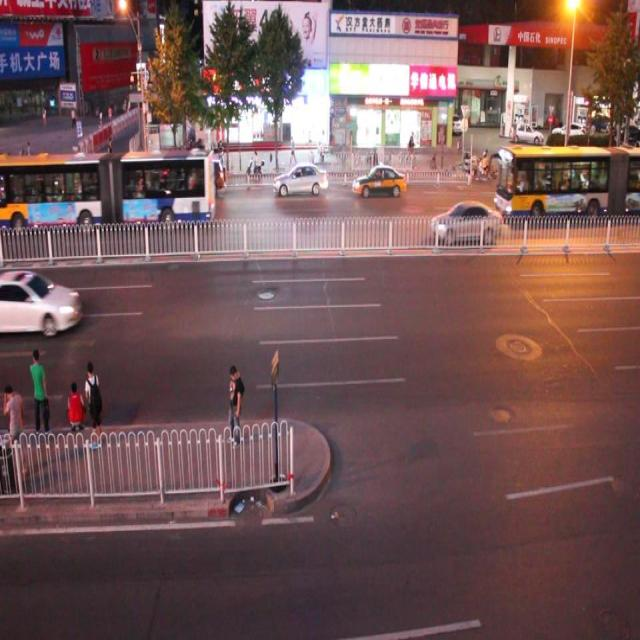car: (490, 142, 640, 218), (1, 267, 78, 334), (430, 199, 501, 240), (70, 174, 120, 218), (273, 163, 327, 198), (351, 164, 405, 199), (181, 153, 224, 194), (10, 180, 55, 212), (1, 162, 14, 203)
van: (1, 150, 215, 230)
